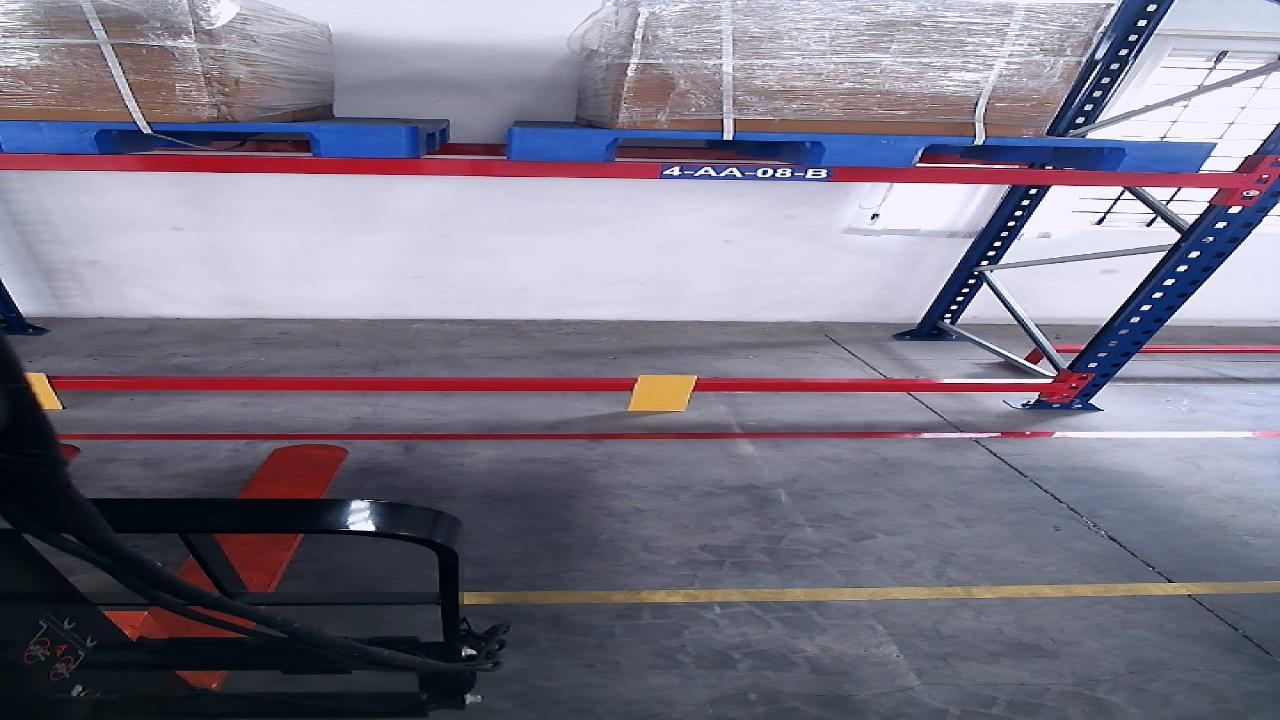h_rack: (1, 153, 1244, 188), (54, 381, 1046, 392)
orange_strip: (627, 374, 697, 412)
red_line: (59, 428, 1278, 440)
small_pallet: (508, 129, 1215, 171), (1, 122, 412, 159)
yellow_line: (465, 579, 1278, 604)
